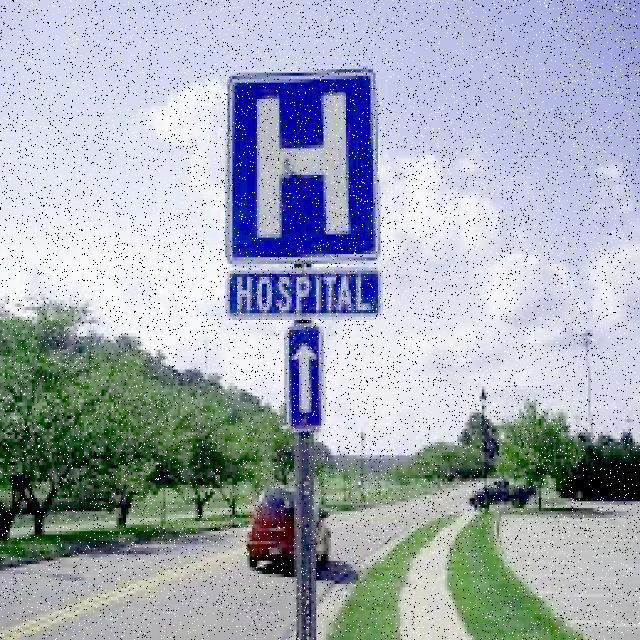Traffic sign: (219, 64, 389, 436)
